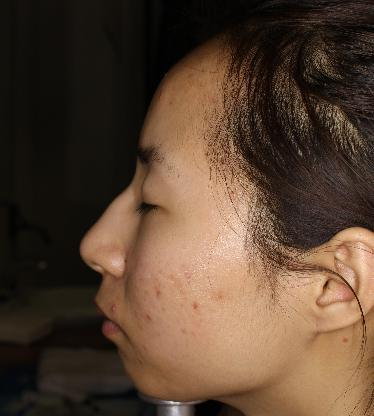Blackheads: (187, 300, 202, 315), (141, 312, 156, 324)
Papules: (109, 302, 120, 313)
acne scar: (214, 287, 229, 305), (153, 284, 166, 303)
